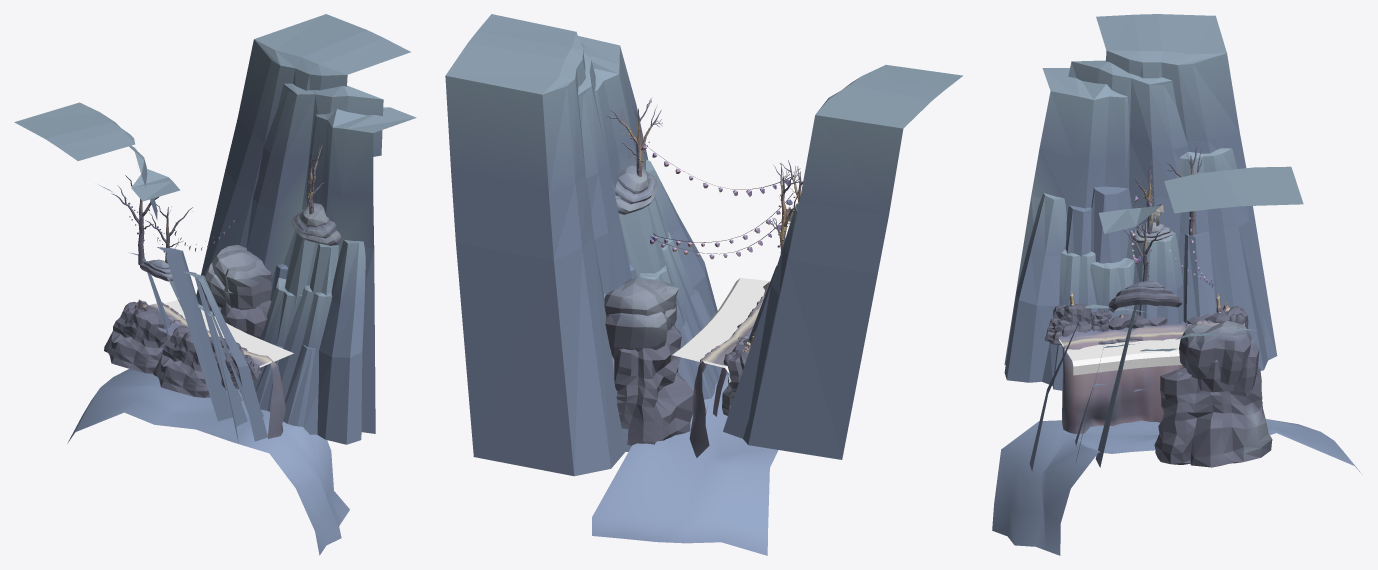
File: Arctic_Narrows_Right_Curve_Left_15_A.glb
3 renders of one model, left to right at view 1: azimuth 30°, elevation 25°; view 2: azimuth 150°, elevation 25°; view 3: azimuth 270°, elevation 25°, orthographic. The views are drawn at different scales.
Parts seen in each view (by area): view 1: Arctic_Narrows_Left_IceWall_A01 (1), Arctic_Narrows_Left_IceWall_A01_Right, Arctic_Narrows_Right_Curve_Left_15_A, Arctic_Narrows_Right_IceWall_A02 (1), Arctic_Narrows_SnowRock_A01 (1), Arctic_Narrows_Big_Rock_A01_Top (×3), Arctic_Narrows_Right_IceWall_A02_Left, Arctic_Narrows_Big_Rock_A01_Mid (×2), inv_fill, Arctic_Narrows_Big_Rock_A01 (8), Arctic_Narrows_Big_Rock_A01 (9), Arctic_Narrows_SnowRock_A01 (+1 smaller); view 2: Arctic_Narrows_Left_IceWall_A01 (1), Arctic_Narrows_Right_IceWall_A02 (1), Arctic_Narrows_Right_Curve_Left_15_A, Arctic_Narrows_Left_IceWall_A01_Right, Arctic_Narrows_Right_IceWall_A02_Right, Arctic_Narrows_Big_Rock_A01_Mid, inv_fill, Arctic_Narrows_SnowRock_A01, Arctic_Narrows_SnowRock_A01 (1), Arctic_Narrows_Big_Rock_A01 (4), Arctic_Narrows_Big_Rock_A01_Top, Arctic_Narrows_Right_Snow_A01_Top; view 3: Arctic_Narrows_Right_IceWall_A02 (1), Arctic_Narrows_Right_Curve_Left_15_A, Arctic_Narrows_Right_IceWall_A02_Left, Arctic_Narrows_Right_IceWall_A02_Right, Arctic_Narrows_Left_IceWall_A01 (1), Arctic_Narrows_Right_IceWall_A02_Mid, Arctic_Narrows_Big_Rock_A01 (4), Arctic_Narrows_SnowRock_A01 (1), Arctic_Narrows_Big_Rock_A01_Top (×4), Arctic_Narrows_Big_Rock_A01_Mid, inv_fill, Arctic_Narrows_SnowRock_A01 (+2 smaller).
Part boxes in pixels (x1,y1,x2,y2): Arctic_Narrows_Left_IceWall_A01 (1): [196, 14, 416, 433]; Arctic_Narrows_Left_IceWall_A01_Right: [239, 240, 365, 444]; Arctic_Narrows_Right_Curve_Left_15_A: [67, 303, 349, 555]; Arctic_Narrows_Right_IceWall_A02 (1): [14, 102, 247, 442]; Arctic_Narrows_SnowRock_A01 (1): [212, 244, 271, 308]; Arctic_Narrows_Big_Rock_A01_Top (×3): [120, 295, 271, 359]; Arctic_Narrows_Right_IceWall_A02_Left: [184, 272, 267, 441]; Arctic_Narrows_Big_Rock_A01_Mid (×2): [109, 317, 204, 379]; inv_fill: [164, 300, 293, 382]; Arctic_Narrows_Big_Rock_A01 (8): [153, 361, 209, 397]; Arctic_Narrows_Big_Rock_A01 (9): [104, 337, 161, 373]; Arctic_Narrows_SnowRock_A01: [204, 263, 256, 309]; Arctic_Narrows_Left_IceWall_A01 (1): [445, 14, 669, 476]; Arctic_Narrows_Right_IceWall_A02 (1): [743, 65, 962, 459]; Arctic_Narrows_Right_Curve_Left_15_A: [592, 281, 778, 555]; Arctic_Narrows_Left_IceWall_A01_Right: [629, 159, 728, 399]; Arctic_Narrows_Right_IceWall_A02_Right: [723, 197, 800, 438]; Arctic_Narrows_Big_Rock_A01_Mid: [614, 356, 693, 421]; inv_fill: [672, 278, 770, 382]; Arctic_Narrows_SnowRock_A01: [605, 307, 675, 359]; Arctic_Narrows_SnowRock_A01 (1): [604, 278, 678, 326]; Arctic_Narrows_Big_Rock_A01 (4): [618, 395, 693, 445]; Arctic_Narrows_Big_Rock_A01_Top: [614, 324, 681, 378]; Arctic_Narrows_Right_Snow_A01_Top: [617, 165, 649, 193]; Arctic_Narrows_Right_IceWall_A02 (1): [1004, 14, 1277, 364]; Arctic_Narrows_Right_Curve_Left_15_A: [992, 320, 1362, 555]; Arctic_Narrows_Right_IceWall_A02_Left: [1004, 193, 1097, 390]; Arctic_Narrows_Right_IceWall_A02_Right: [1178, 148, 1267, 370]; Arctic_Narrows_Left_IceWall_A01 (1): [1075, 166, 1303, 467]; Arctic_Narrows_Right_IceWall_A02_Mid: [1090, 231, 1183, 324]; Arctic_Narrows_Big_Rock_A01 (4): [1154, 419, 1272, 467]; Arctic_Narrows_SnowRock_A01 (1): [1179, 320, 1251, 384]; Arctic_Narrows_Big_Rock_A01_Top (×4): [1053, 304, 1261, 403]; Arctic_Narrows_Big_Rock_A01_Mid: [1158, 389, 1266, 434]; inv_fill: [1059, 338, 1181, 375]; Arctic_Narrows_SnowRock_A01: [1197, 336, 1259, 392].
Bounding box in the file's own units: 26.51 × 27.24 × 21.91.
